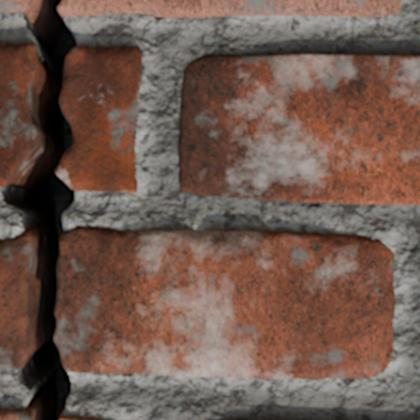brick: (179, 54, 419, 204)
broken_brick: (55, 225, 395, 379), (57, 46, 142, 193), (58, 0, 402, 18), (0, 42, 34, 184), (0, 231, 29, 369), (0, 0, 25, 13), (0, 408, 27, 419), (61, 414, 113, 419)
crack: (0, 0, 77, 419)
